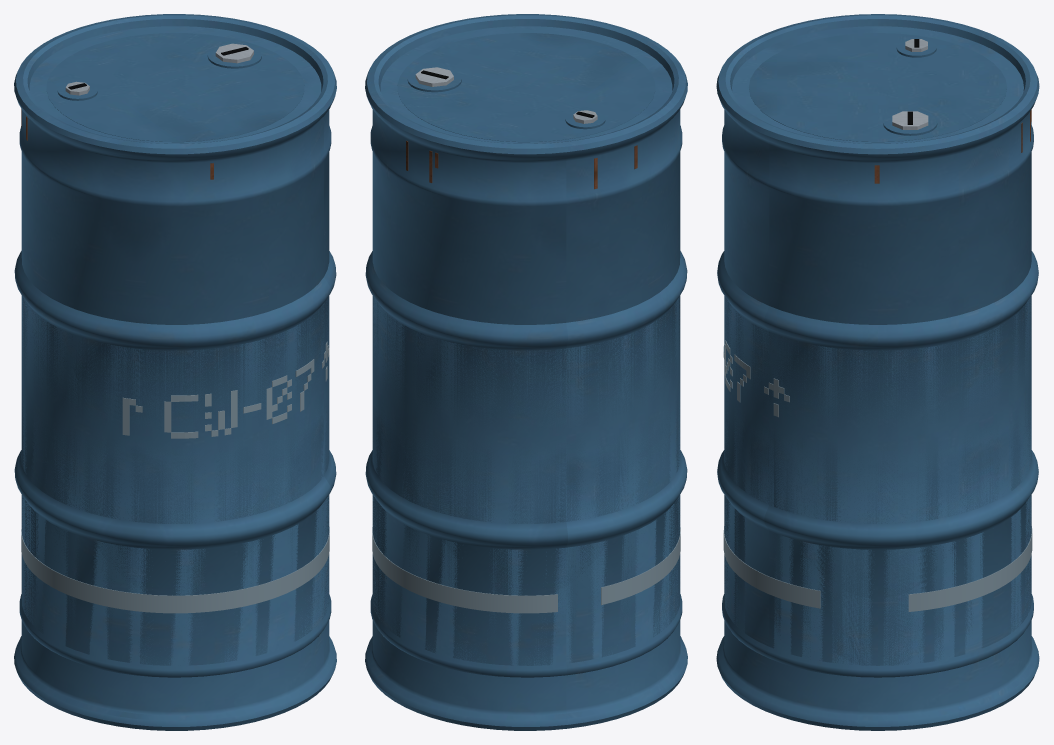
File: barrel.glb
3 renders of one model, left to right at view 1: azimuth 30°, elevation 25°; view 2: azimuth 150°, elevation 25°; view 3: azimuth 270°, elevation 25°, orthographic.
Parts seen in each view (by area): view 1: BarrelBody; view 2: BarrelBody; view 3: BarrelBody.
Part boxes in pixels (<box>): BarrelBody: <box>14,14,336,730</box>; BarrelBody: <box>365,14,687,730</box>; BarrelBody: <box>716,14,1039,730</box>.
Bounding box in the file's own units: 0.5 × 1 × 0.5.
6 materials, 4 textured.
